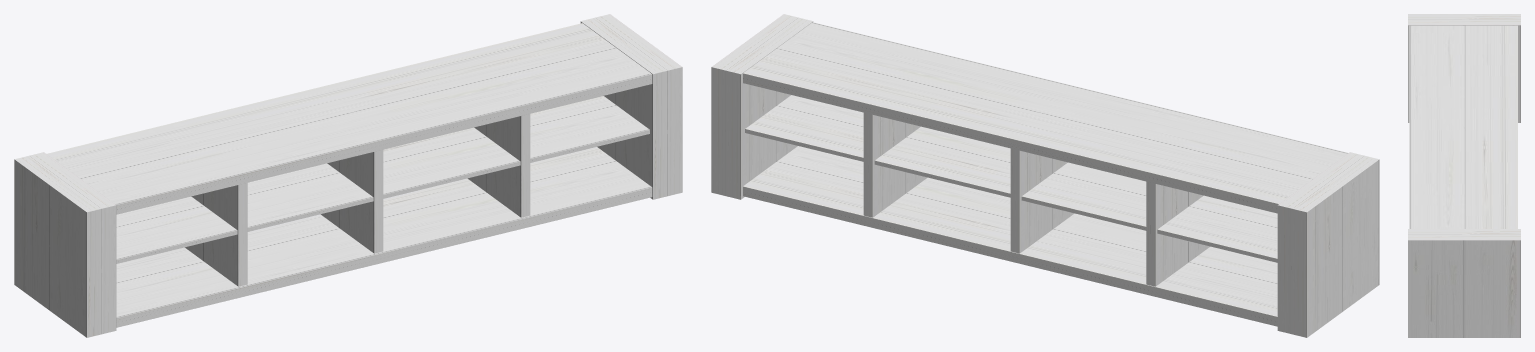
File: Repisa.obj
3 views of the same model, side by side, from view 1: azimuth 30°, elevation 25°; view 2: azimuth 150°, elevation 25°; view 3: azimuth 270°, elevation 25° (orthographic). The views are drawn at different scales.
Bounding box in the file's own units: 28.66 × 5.77 × 6.04.
Materials: 1 (1 with a texture image).
